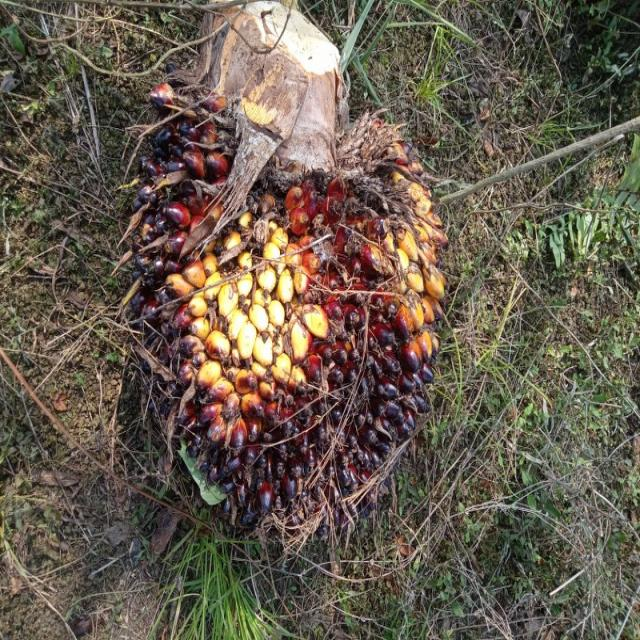fraksi 00: (124, 58, 466, 573)
